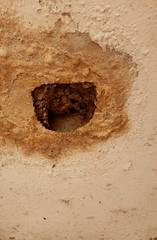Corrosion: (1, 18, 138, 159)
Spalling: (30, 80, 97, 135)
